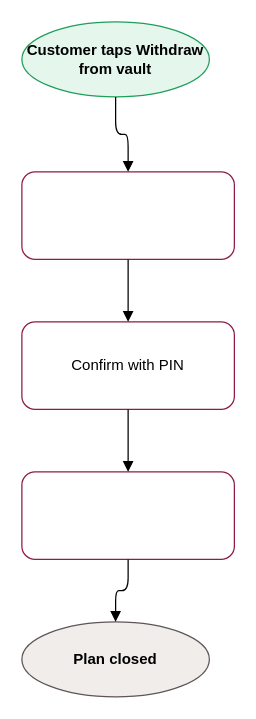
Some shapes in this 256 by 719 pixel diagram are drawn without their labels. Each missing label, with the centre of its shape:
Release pocket to main account minus penalty; release stock: (x=127, y=515)
Show penalty set at setup and net amount: (x=127, y=215)
